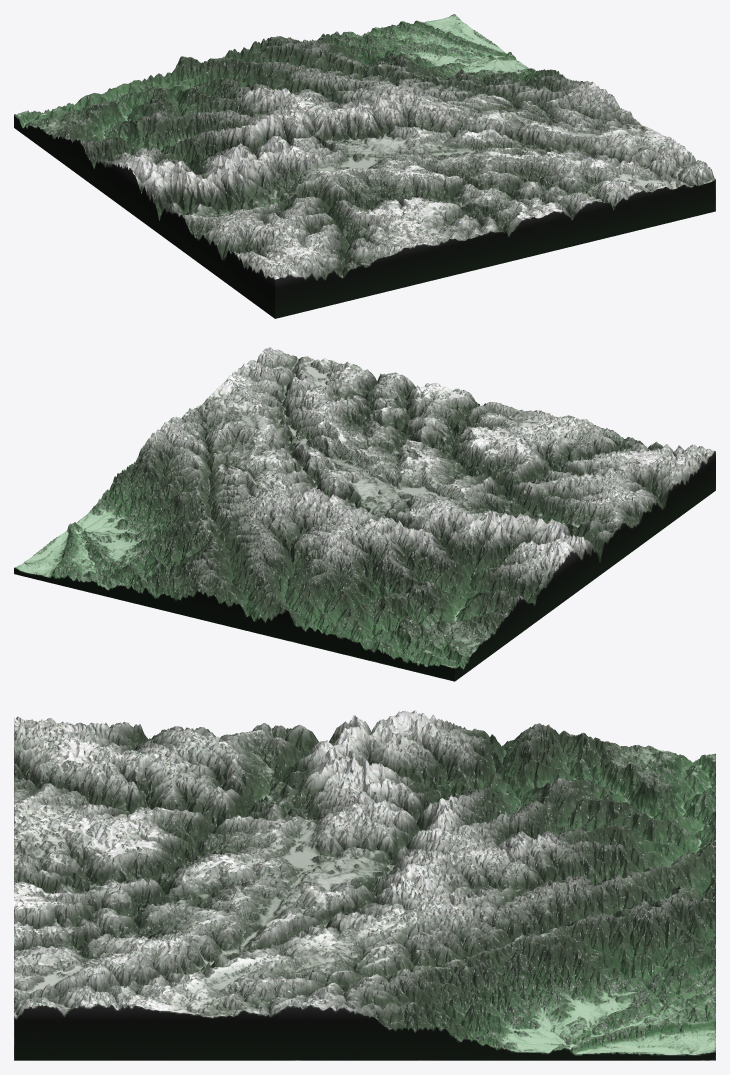
File: cuzco.glb
The picture shows the model from 3 angles, top to bottom: view 1: azimuth 30°, elevation 25°; view 2: azimuth 150°, elevation 25°; view 3: azimuth 270°, elevation 25°; orthographic projection. The views are drawn at different scales.
Visible parts, largest first — view 1: terrain-125384; view 2: terrain-125384; view 3: terrain-125384.
Part boxes in pixels (x1=…): terrain-125384: x1=14, y1=14, x2=715, y2=318; terrain-125384: x1=14, y1=347, x2=715, y2=681; terrain-125384: x1=14, y1=710, x2=715, y2=1060.
Bounding box in the file's own units: 19.17 × 2.21 × 19.67.
1 material, 1 textured.
